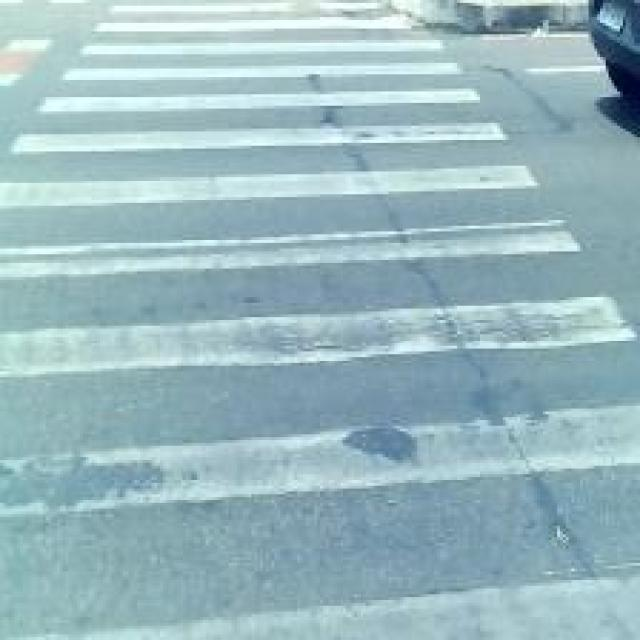zebra: (92, 19, 534, 602)
